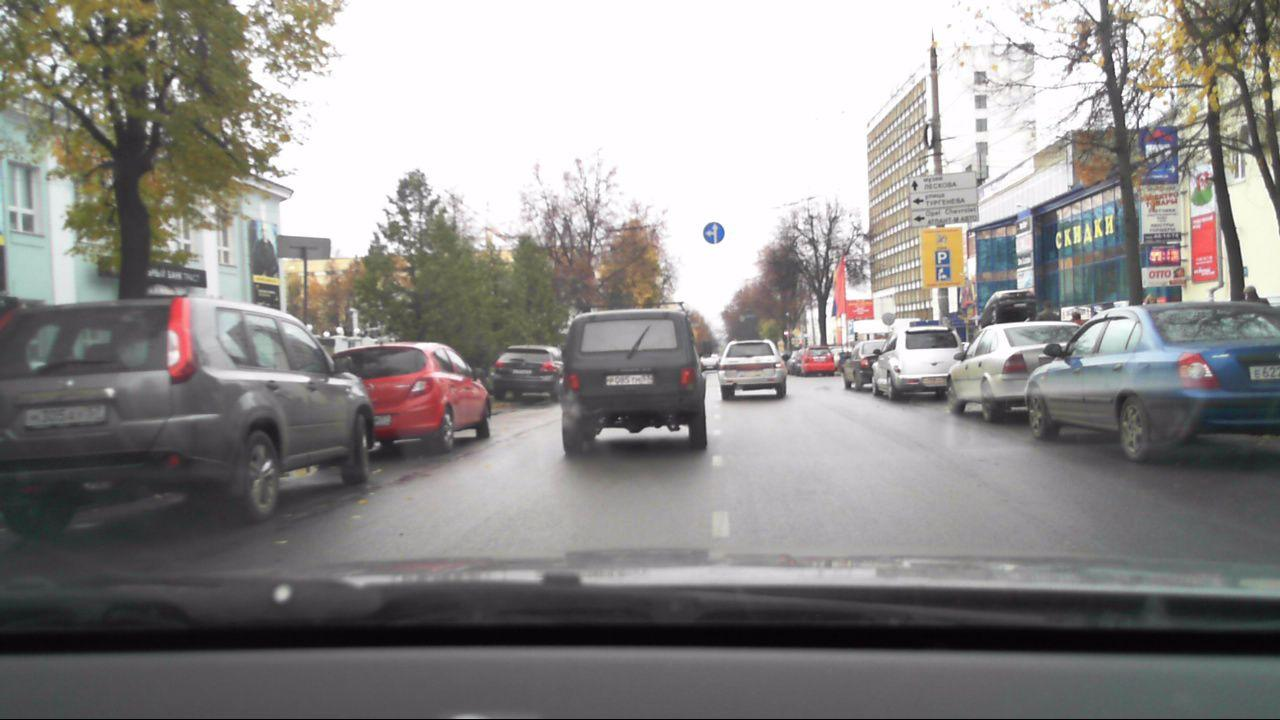4_1_5: (702, 222, 727, 245)
6_10_1: (910, 175, 979, 226)
6_4: (935, 249, 951, 264)
